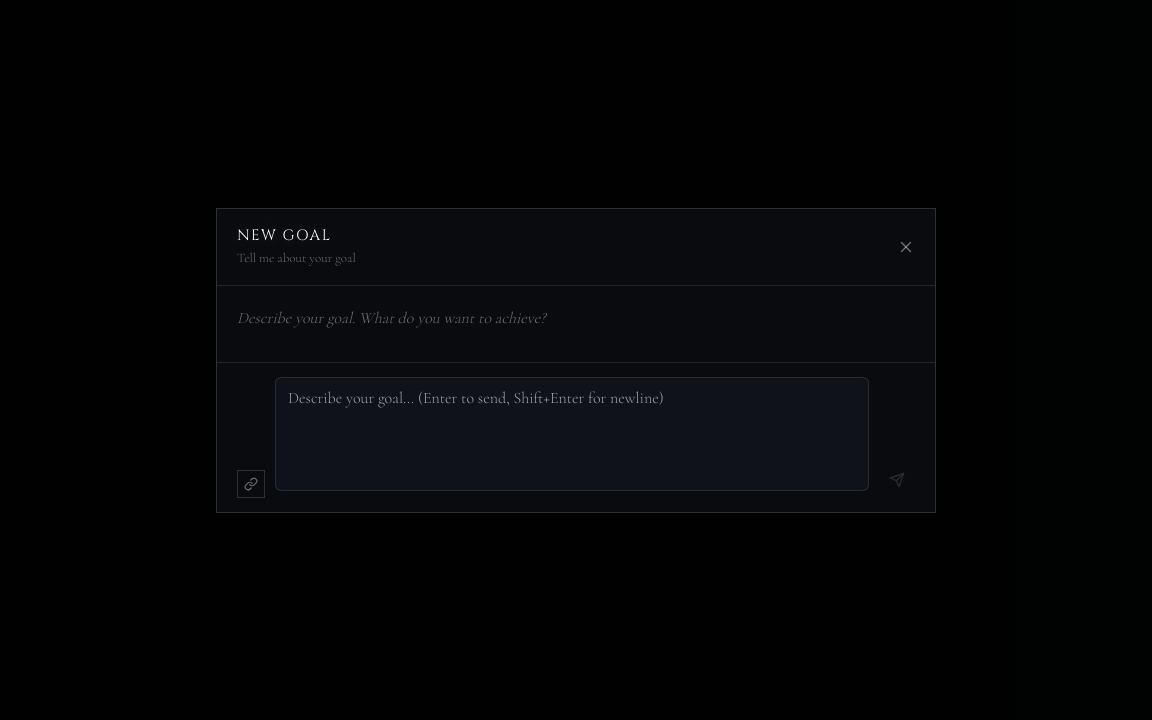
Test case: GoalCreationDialog — phase rendering › gathering phase: textarea placeholder changes when isReadyToGenerate
Replace the text in the text box with placeholder "Describe your goal" with "I want to learn Rust" at (572,434), box [275,376,869,490]
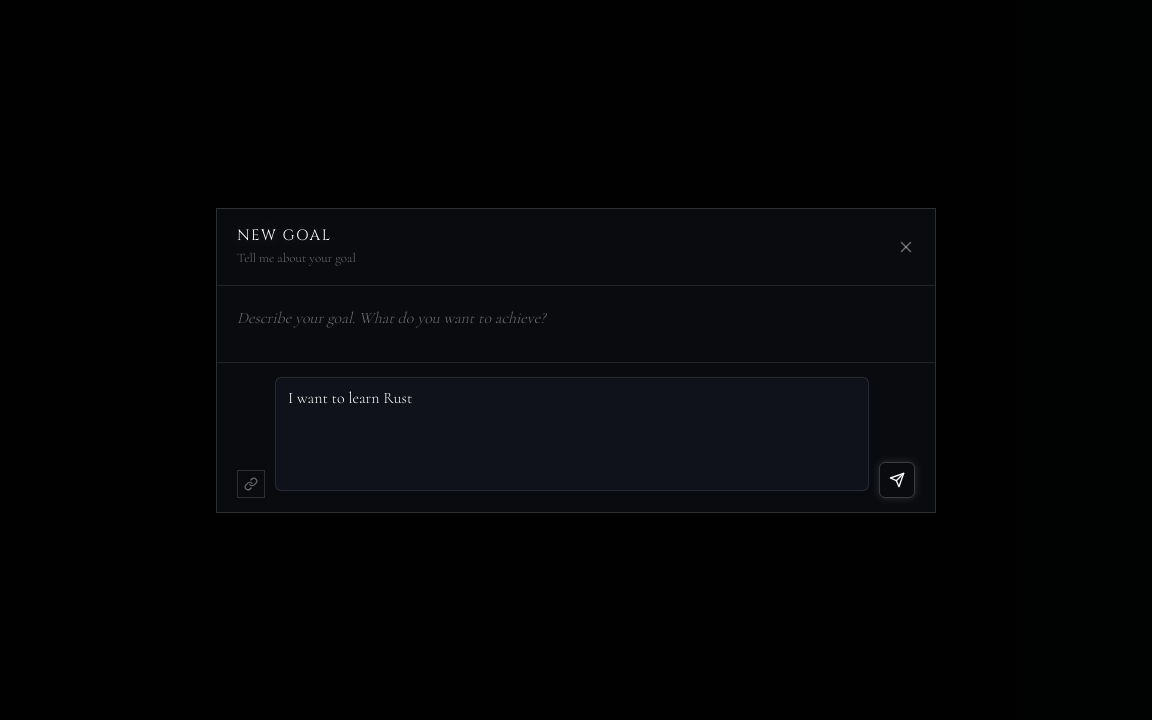
Press Enter in the text box with placeholder "Describe your goal", box [275,376,869,490]
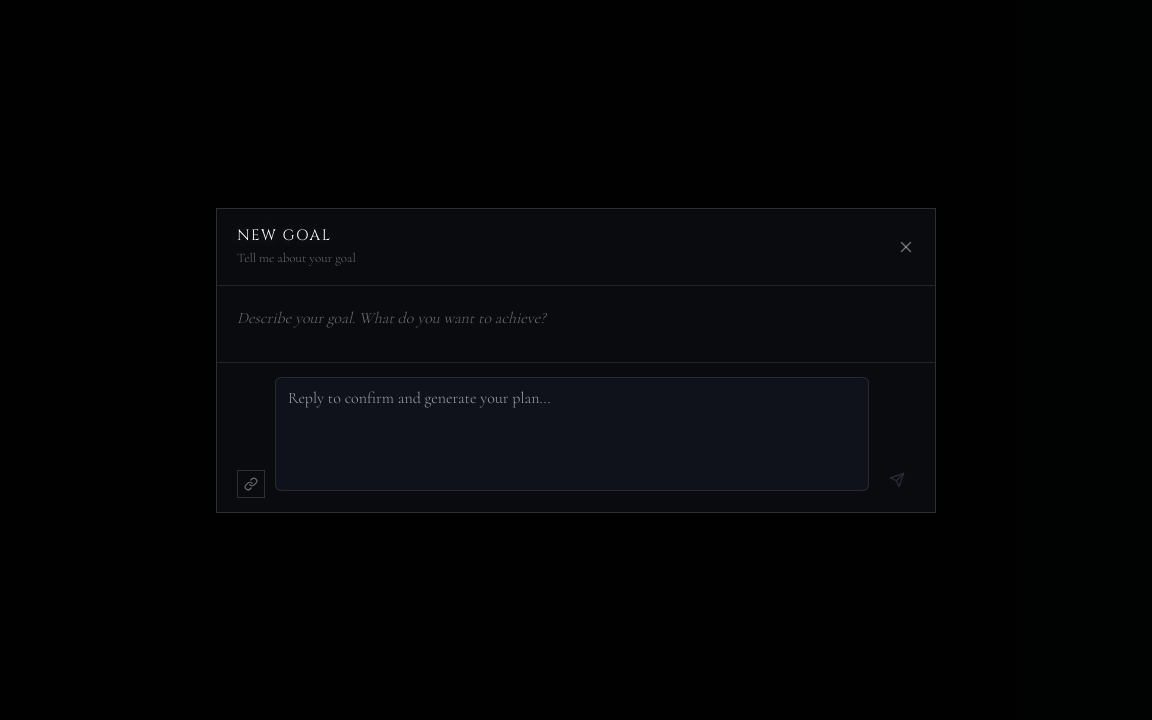
Check: the text box with placeholder "Reply to confirm and generate your plan..." is shown, box [275,376,869,490]
